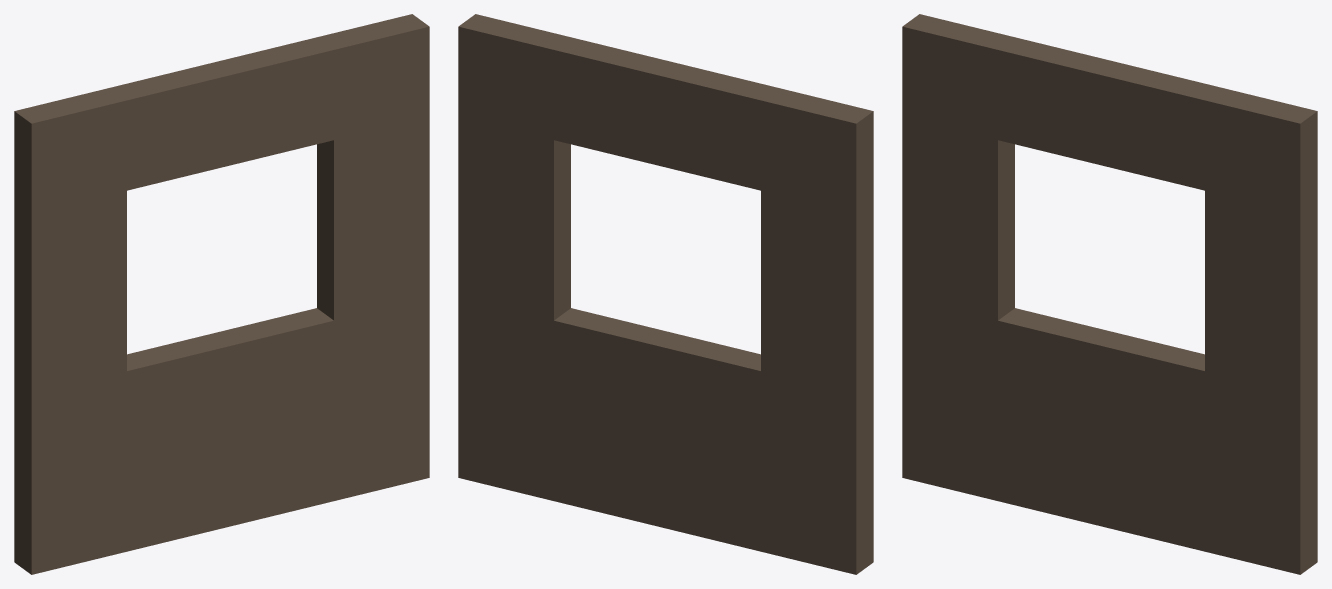
The model's file is P035-blockout-v1.glb.
3 views of the same model, side by side, from view 1: azimuth 30°, elevation 25°; view 2: azimuth 150°, elevation 25°; view 3: azimuth 330°, elevation 25° (orthographic).
Visible parts, largest first — view 1: 牆側 (×2), 窗下牆, 窗楣; view 2: 牆側 (×2), 窗下牆, 窗楣; view 3: 牆側 (×2), 窗下牆, 窗楣.
Part boxes in pixels (x1,y1,x2,y2): 牆側 (×2): [14, 14, 429, 574]; 窗下牆: [14, 308, 429, 574]; 窗楣: [14, 14, 429, 212]; 牆側 (×2): [458, 14, 873, 574]; 窗下牆: [458, 308, 873, 574]; 窗楣: [458, 14, 873, 212]; 牆側 (×2): [902, 14, 1317, 574]; 窗下牆: [902, 308, 1317, 574]; 窗楣: [902, 14, 1317, 209].
Size of the model in its own units: 2.4 by 2.6 by 0.18.
